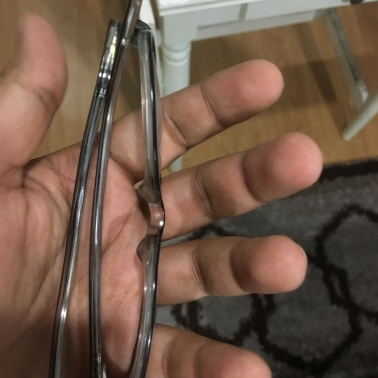glasses: (58, 28, 180, 371)
